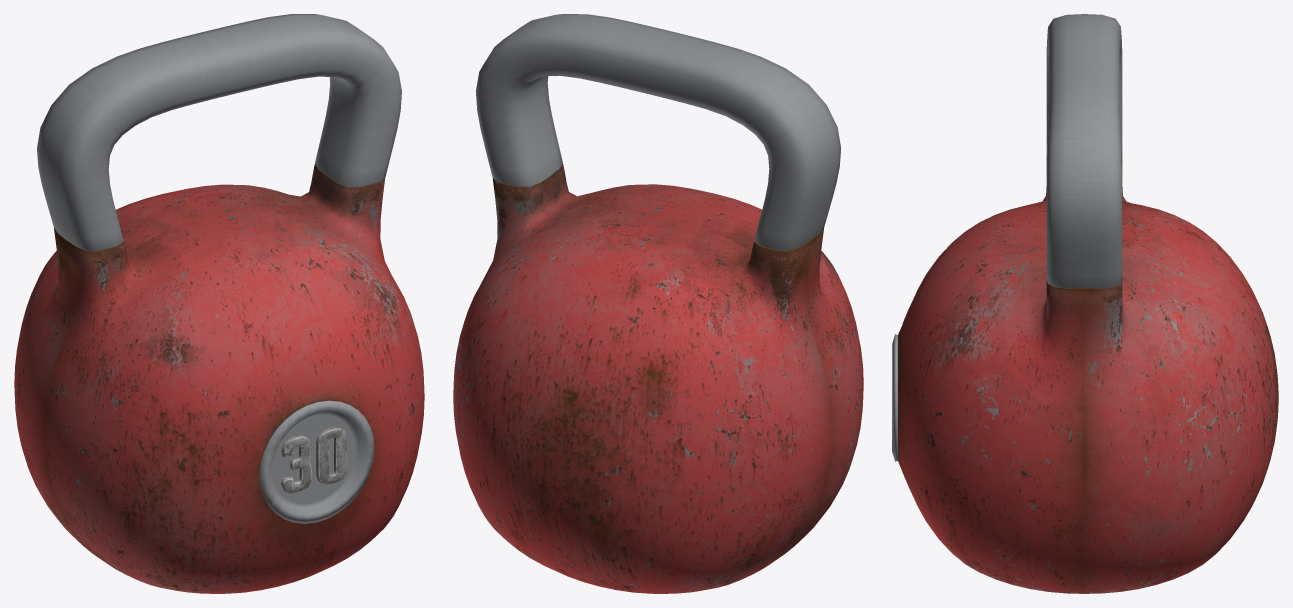
The picture shows the model from 3 angles, left to right: view 1: azimuth 30°, elevation 25°; view 2: azimuth 150°, elevation 25°; view 3: azimuth 270°, elevation 25°; orthographic projection. The views are drawn at different scales.
Parts seen in each view (by area): view 1: jelly_base_lp, metal_handle_lp, l_metal_number_lp; view 2: jelly_base_lp, metal_handle_lp; view 3: jelly_base_lp, metal_handle_lp.
Boxes of the visible parts, x1,y1,x2,y2 form: jelly_base_lp: [14, 164, 424, 593]; metal_handle_lp: [37, 14, 401, 523]; l_metal_number_lp: [281, 427, 346, 493]; jelly_base_lp: [453, 163, 863, 593]; metal_handle_lp: [476, 14, 841, 250]; jelly_base_lp: [898, 155, 1278, 593]; metal_handle_lp: [892, 14, 1122, 461].
Size of the model in its own units: 0.2999 by 0.4251 by 0.2983.
3 materials, 3 textured.
